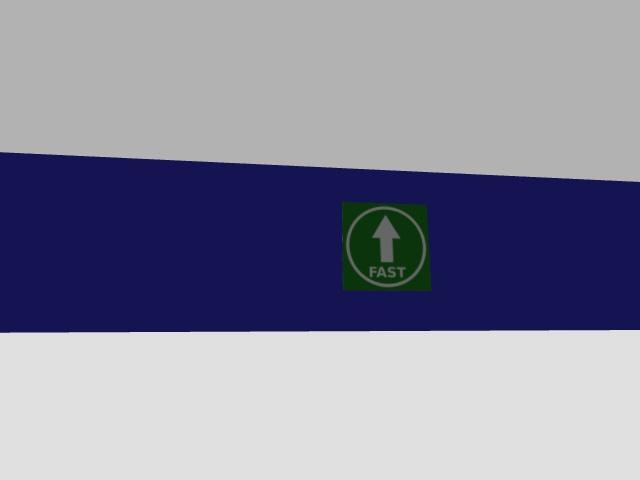fast: (343, 202, 430, 290)
